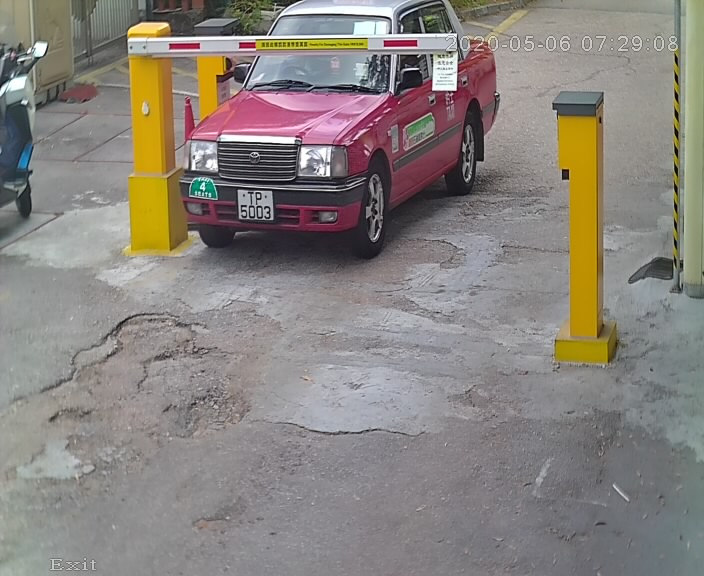taxi: (165, 2, 522, 268)
taxi_mark: (182, 173, 229, 207)
